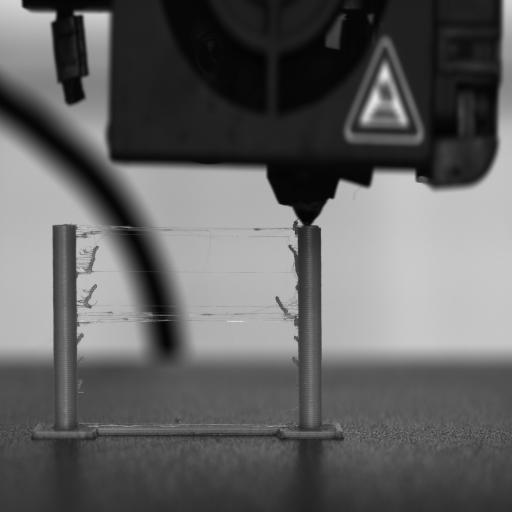spaghetti_and_stringing: (76, 244, 99, 274), (275, 295, 297, 321), (76, 283, 98, 308), (200, 228, 212, 264), (91, 230, 111, 246), (278, 406, 297, 420), (288, 244, 298, 266), (76, 332, 84, 346), (77, 355, 84, 367), (77, 379, 83, 392), (292, 356, 298, 367)
